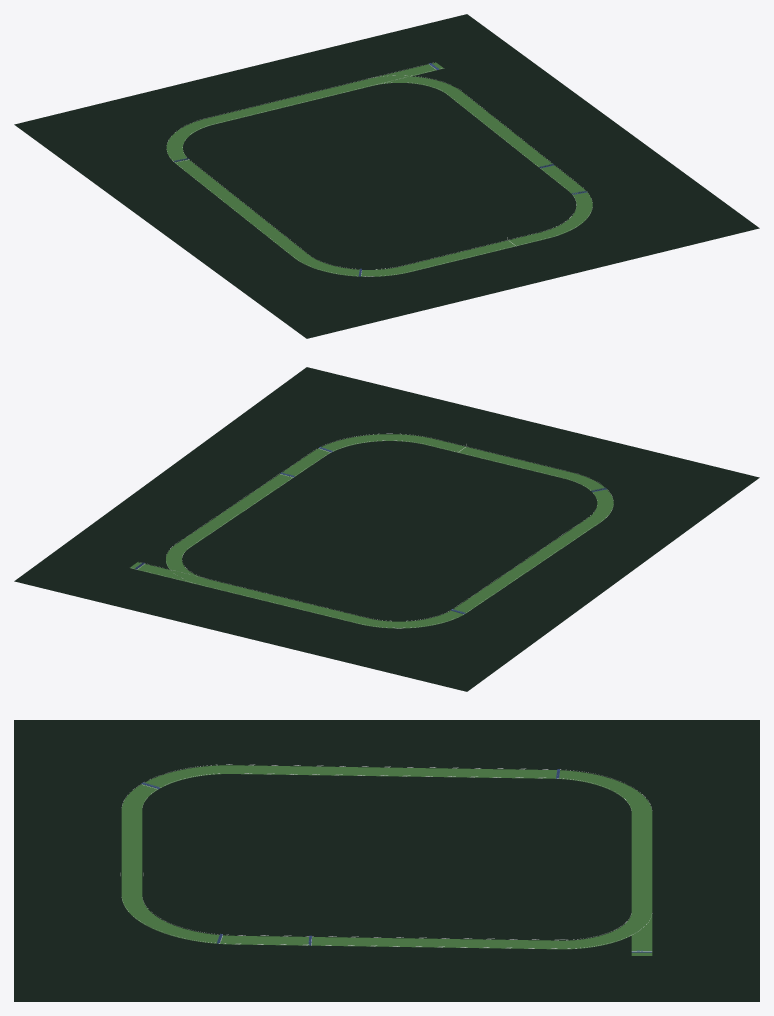
Rendered from moonee-valley.glb.
The picture shows the model from 3 angles, top to bottom: view 1: azimuth 30°, elevation 25°; view 2: azimuth 150°, elevation 25°; view 3: azimuth 270°, elevation 25°; orthographic projection. The views are drawn at different scales.
Visible parts, largest first — view 1: Terrain, Surface; view 2: Terrain, Surface; view 3: Terrain, Surface.
Boxes of the visible parts, x1,y1,x2,y2 form: Terrain: (14,14,759,338); Surface: (166,62,592,276); Terrain: (14,367,759,691); Surface: (130,434,613,628); Terrain: (14,720,759,1001); Surface: (121,765,652,955).
Size of the model in its own units: 743 by 4.8 by 832.
